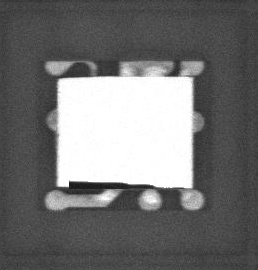DIE_BROKEN: (67, 177, 155, 191)
